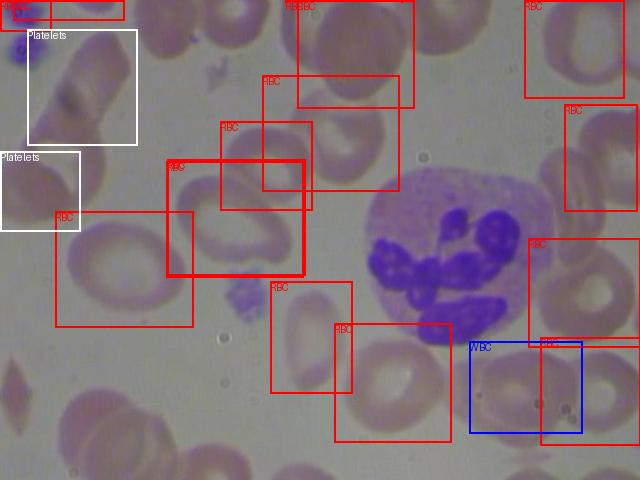Platelets: (27, 29, 137, 145), (0, 151, 80, 231)
RBC: (55, 211, 193, 327), (167, 159, 305, 275), (166, 161, 303, 277), (262, 75, 399, 191), (334, 323, 451, 442), (297, 0, 414, 108), (528, 238, 640, 347), (540, 337, 640, 445), (524, 0, 624, 98), (270, 281, 352, 393), (220, 121, 312, 210), (564, 104, 637, 211), (13, 0, 124, 20), (0, 0, 51, 31)
WBC: (469, 341, 582, 433)
